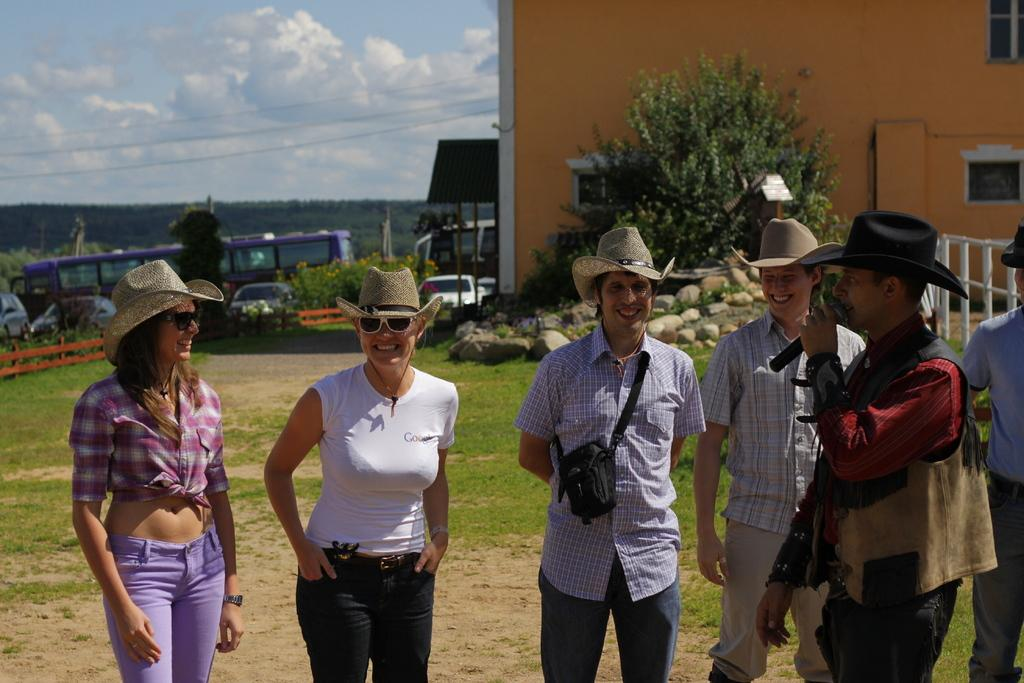Hat: (802, 208, 966, 298), (106, 260, 226, 365), (571, 226, 681, 302), (728, 218, 841, 272), (337, 268, 442, 324), (999, 217, 1023, 261)
